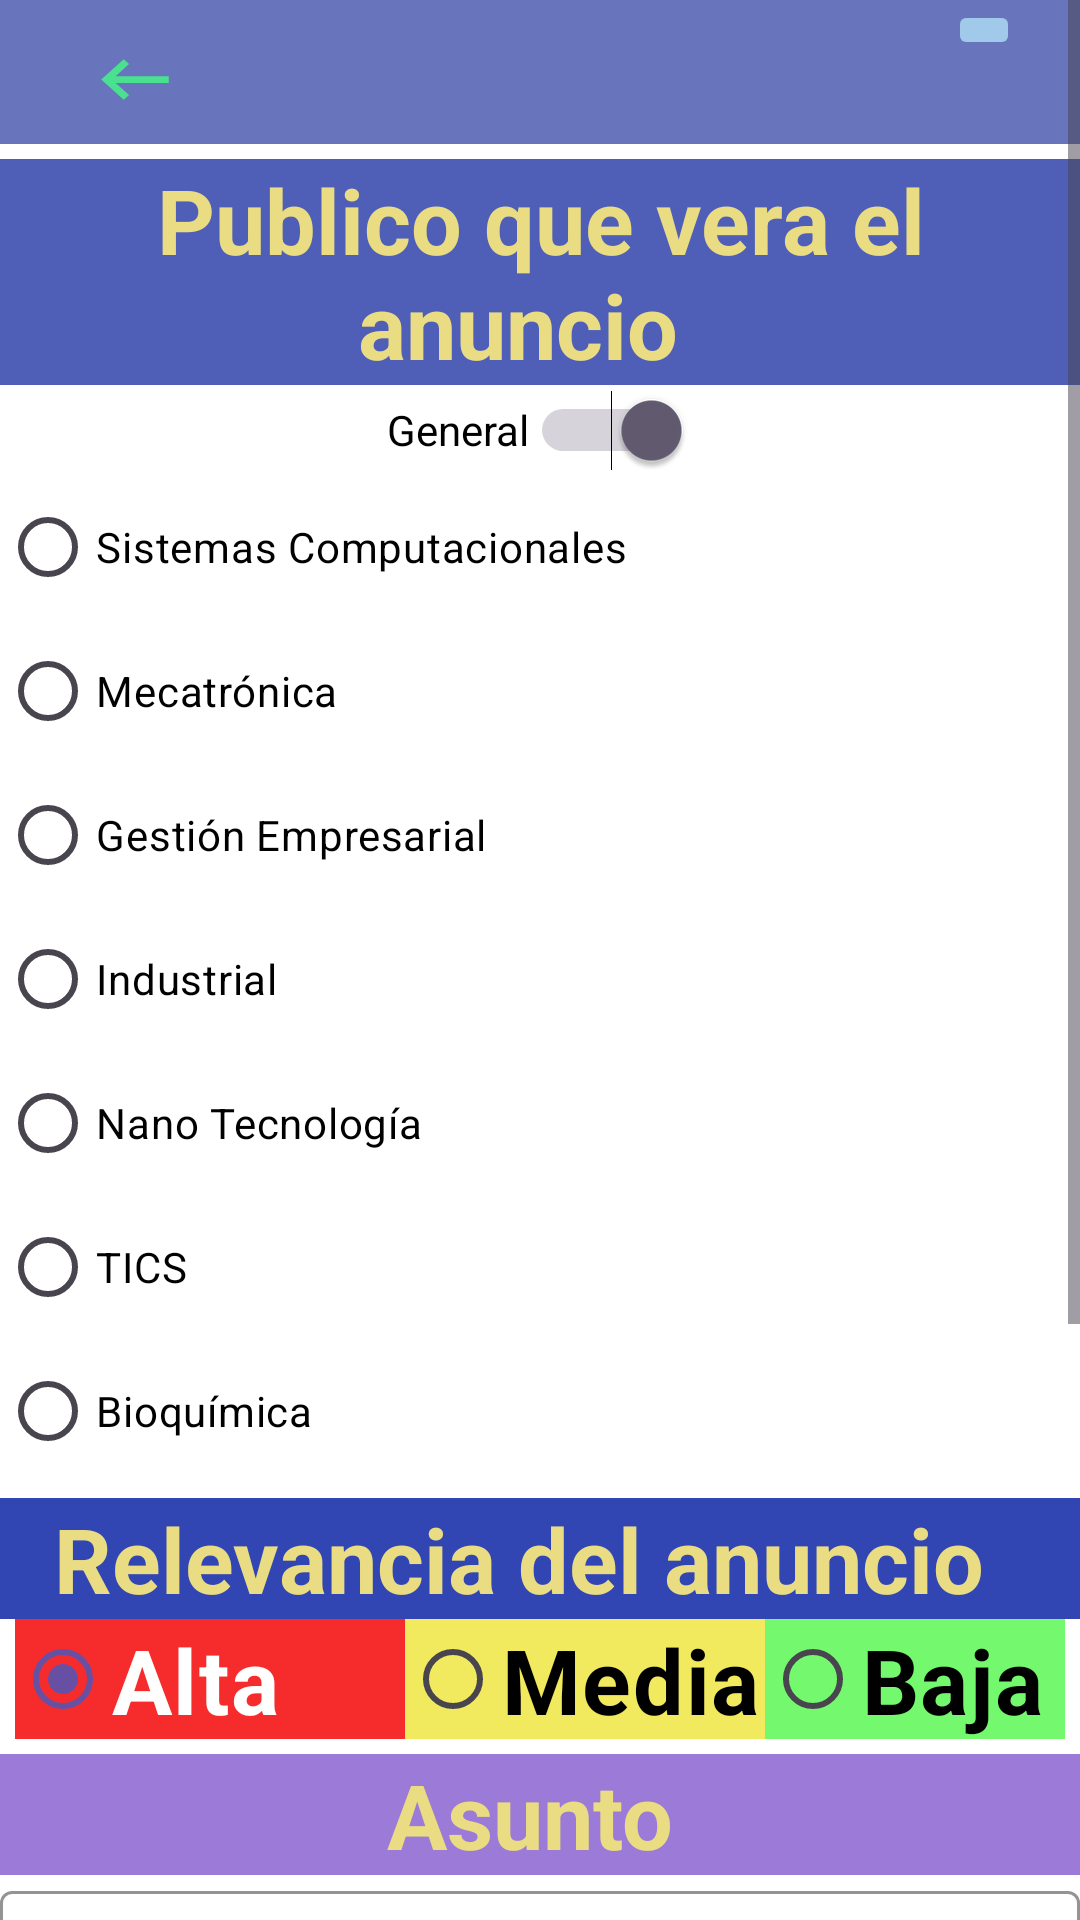

Where icons sit on this 1080*1920 app screen, as box(x1, y1, x2, y2):
keyboard backspace: box(101, 59, 169, 100)
